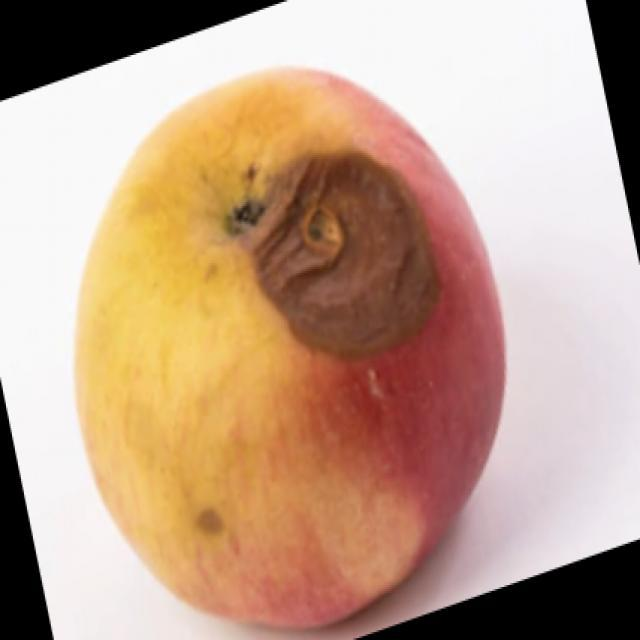Rotten: (80, 80, 497, 640)
